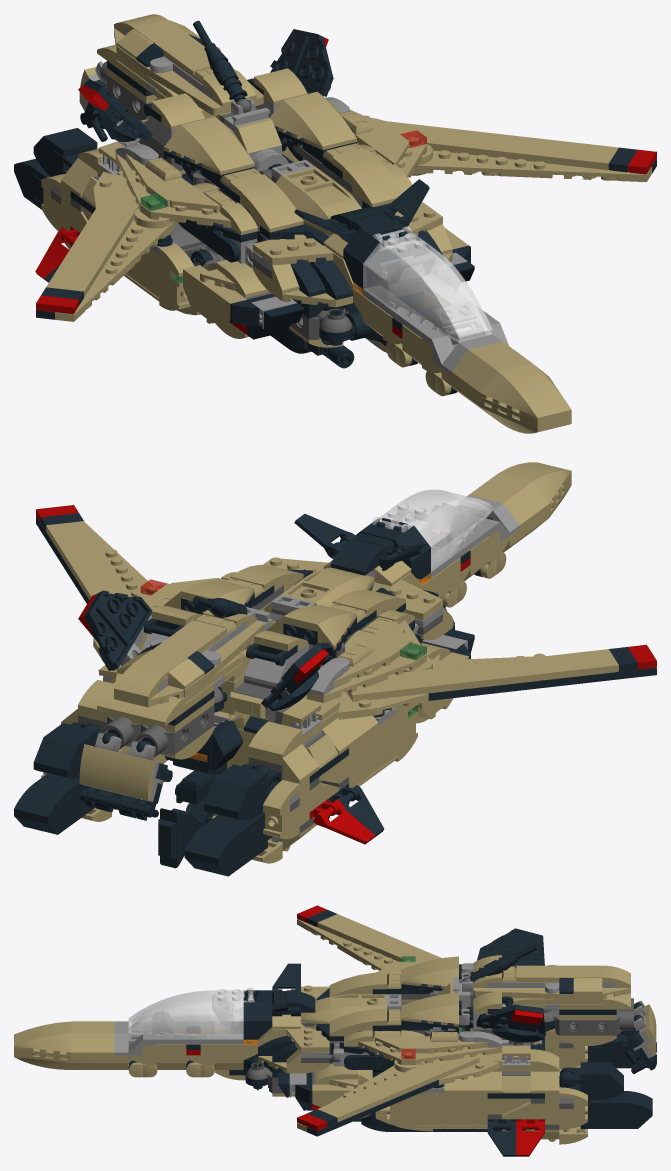
The model's file is yf-19-alpha-one-fighter.dae.
3 views of the same model, one above another, from view 1: azimuth 30°, elevation 25°; view 2: azimuth 150°, elevation 25°; view 3: azimuth 270°, elevation 25° (orthographic). The views are drawn at different scales.
Bounding box in the file's own units: 728 × 896 × 283.
